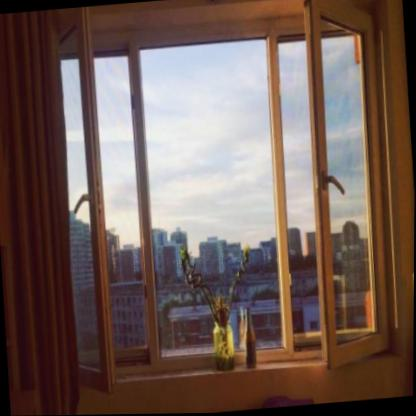Window: (51, 6, 393, 391)
